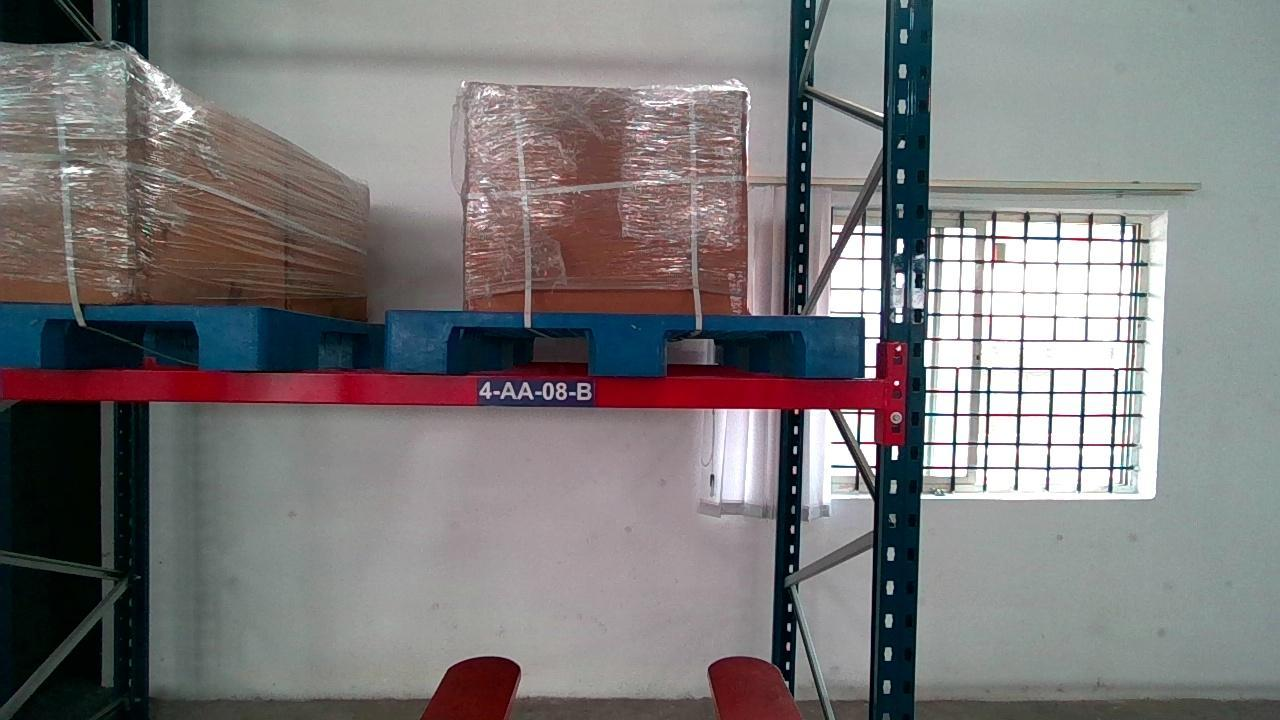h_rack: (2, 371, 894, 413)
small_pallet: (390, 307, 864, 374), (1, 304, 262, 367)
